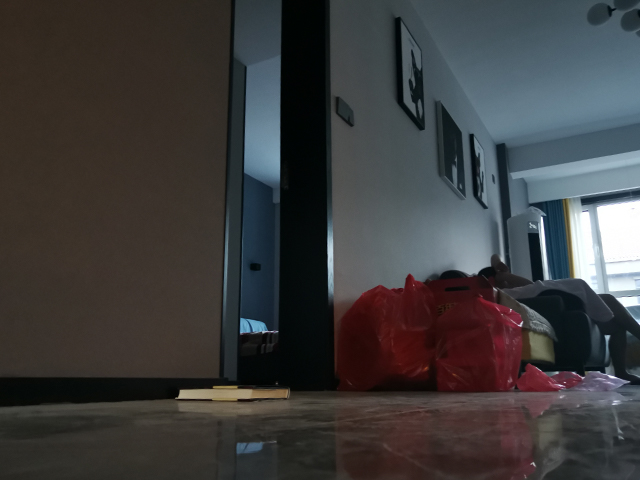book: (170, 386, 293, 403)
sofa: (423, 268, 618, 372)
